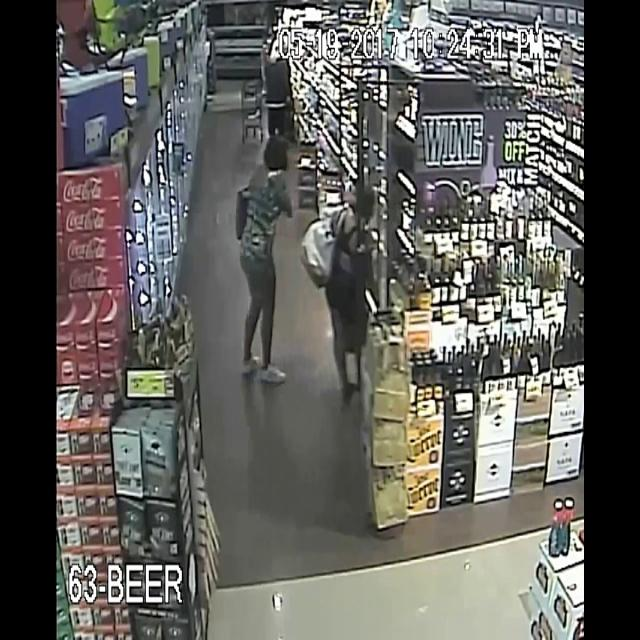normal: (256, 24, 298, 152)
shoplifting: (320, 168, 400, 390), (233, 129, 296, 388)
